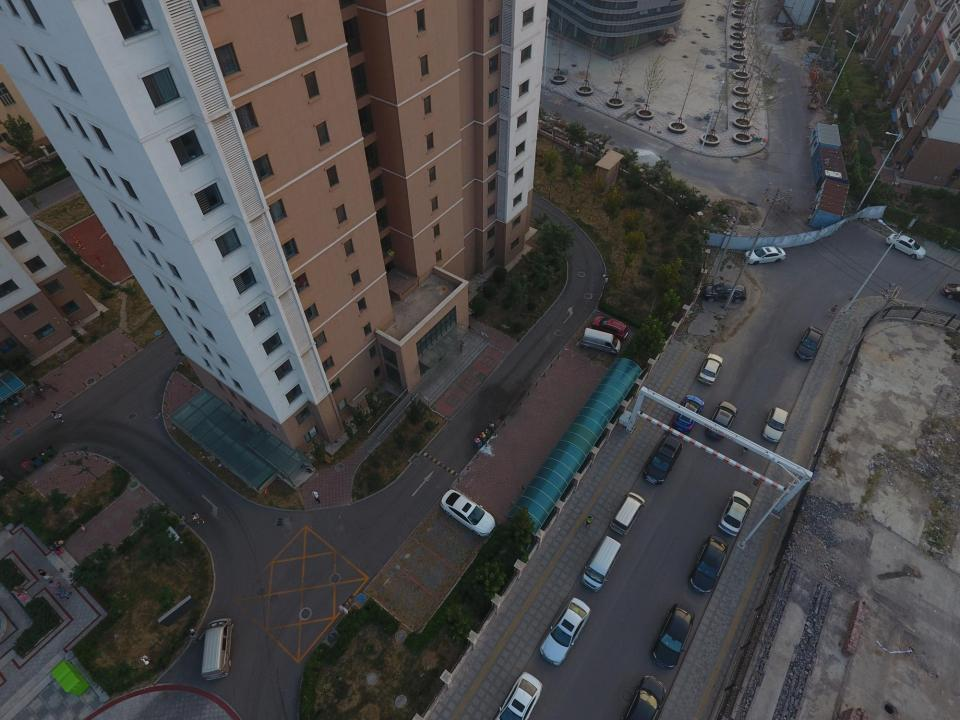car: (538, 597, 591, 667), (650, 603, 695, 671), (490, 668, 544, 720), (687, 534, 729, 595), (440, 489, 494, 536), (622, 674, 671, 720), (643, 437, 681, 485), (717, 489, 751, 536), (705, 400, 737, 441), (673, 395, 704, 434), (885, 232, 926, 260), (795, 326, 823, 363), (761, 406, 788, 444), (591, 315, 629, 339), (702, 283, 747, 303), (743, 246, 787, 265), (698, 354, 723, 384), (943, 282, 960, 299)
van: (581, 536, 622, 591), (198, 617, 233, 681), (611, 492, 644, 534), (580, 328, 622, 356)
